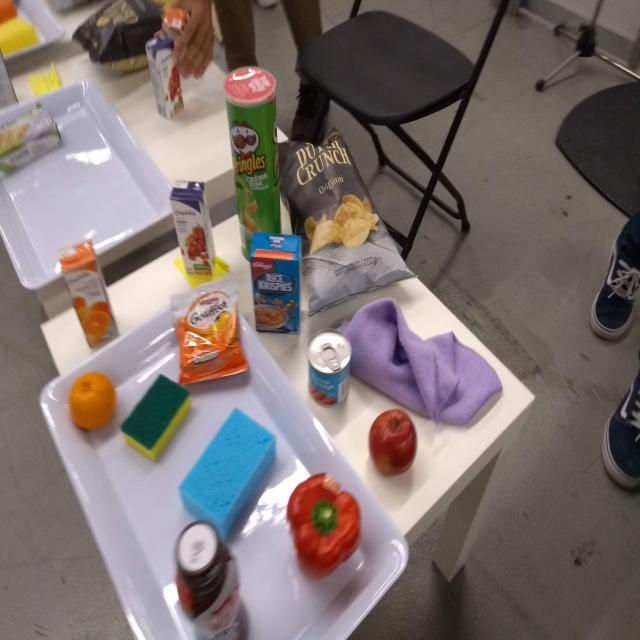apple: (368, 408, 421, 478)
cereal: (248, 228, 306, 336)
cloth_opl: (344, 298, 505, 430)
crackers: (169, 281, 251, 386)
grape_juice: (170, 178, 218, 278), (141, 33, 184, 128)
orange: (69, 370, 118, 435)
orange_juice: (57, 236, 122, 355)
paprika: (283, 468, 363, 580)
potato_chips: (270, 121, 419, 317)
pringles: (222, 63, 283, 236)
sausages: (306, 327, 353, 409)
scrubby: (118, 373, 193, 465)
sponge_opl: (178, 405, 278, 548)
